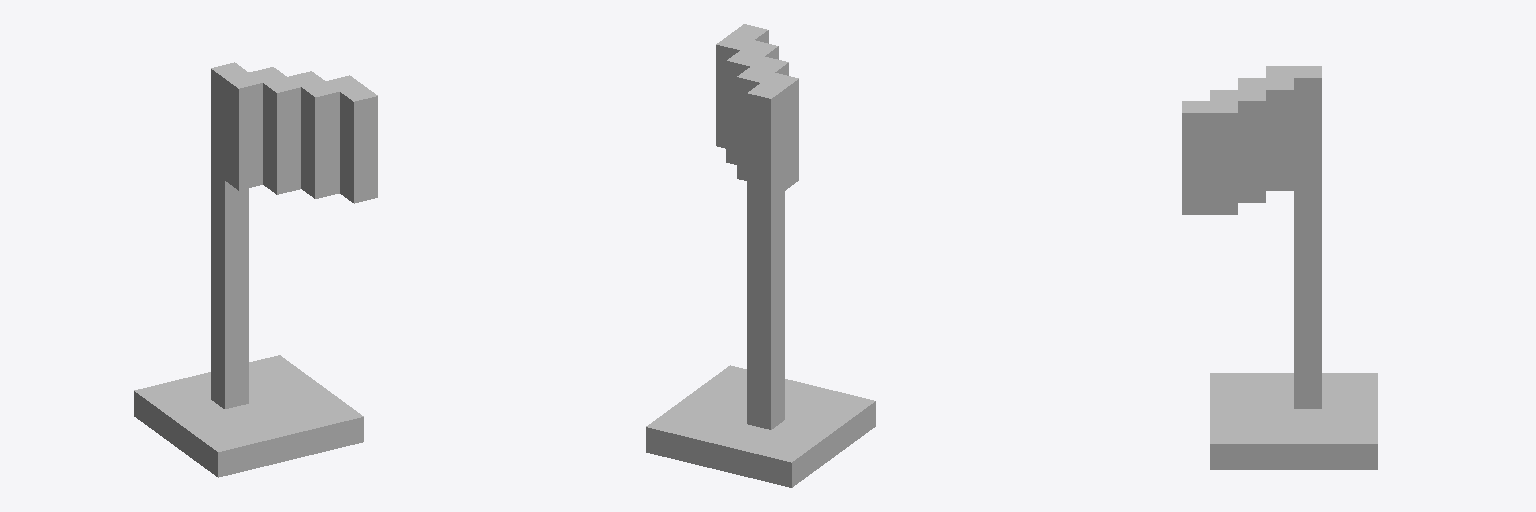
Rendered from flag.obj.
3 views of the same model, side by side, from view 1: azimuth 30°, elevation 25°; view 2: azimuth 150°, elevation 25°; view 3: azimuth 270°, elevation 25° (orthographic).
Parts seen in each view (by area): view 1: object 1; view 2: object 1; view 3: object 1.
Boxes of the visible parts, <box> form: object 1: <box>134,62,377,477</box>; object 1: <box>646,24,875,487</box>; object 1: <box>1182,66,1377,469</box>.
Bounding box in the file's own units: 0.6 × 1.4 × 0.7.